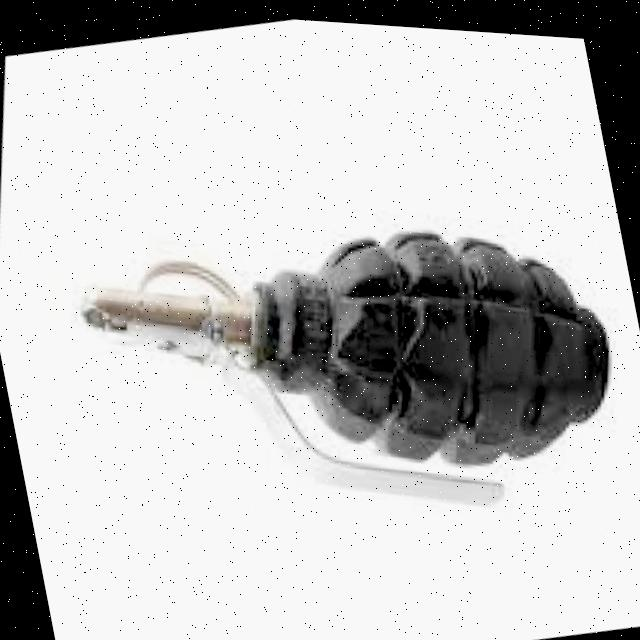grenade: (4, 76, 640, 610)
